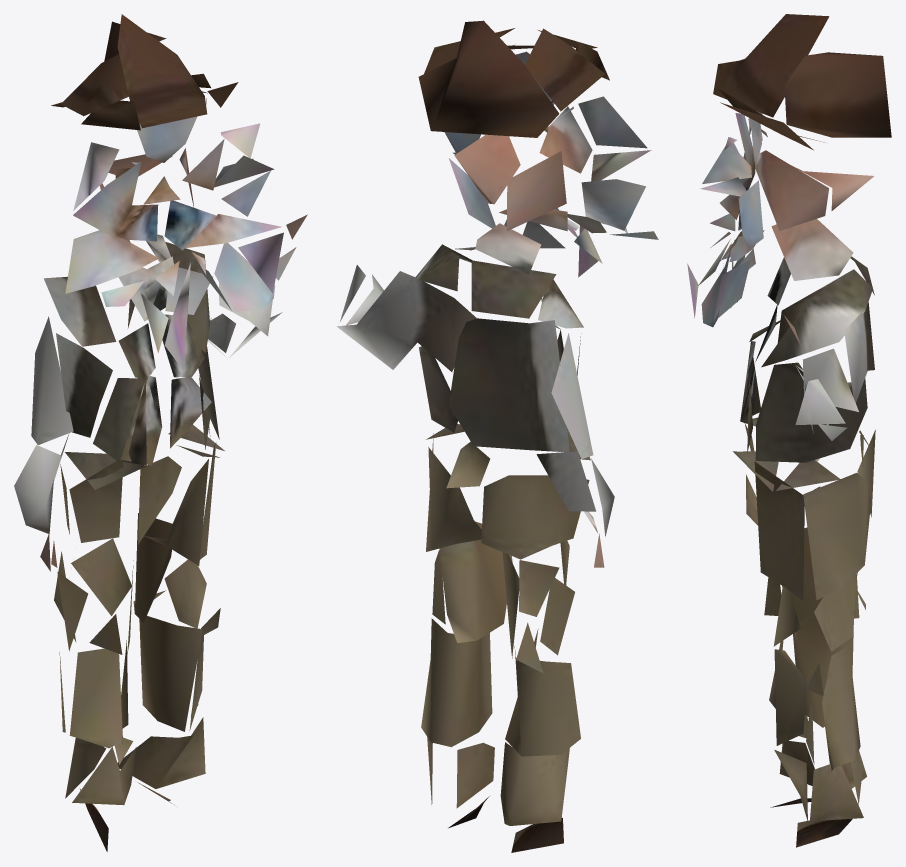
Rendered from crowd_annieh_lite.glb.
3 views of the same model, side by side, from view 1: azimuth 30°, elevation 25°; view 2: azimuth 150°, elevation 25°; view 3: azimuth 270°, elevation 25° (orthographic). The views are drawn at different scales.
Visible parts, largest first — view 1: tripo_node_1126258b-1cb4-43a4-b5b0-aa4036e8409b; view 2: tripo_node_1126258b-1cb4-43a4-b5b0-aa4036e8409b; view 3: tripo_node_1126258b-1cb4-43a4-b5b0-aa4036e8409b.
Part boxes in pixels (x1,y1,x2,y2): tripo_node_1126258b-1cb4-43a4-b5b0-aa4036e8409b: (14, 14, 307, 851); tripo_node_1126258b-1cb4-43a4-b5b0-aa4036e8409b: (336, 20, 658, 852); tripo_node_1126258b-1cb4-43a4-b5b0-aa4036e8409b: (687, 14, 891, 847).
Bounding box in the file's own units: 0.6555 × 1.88 × 0.4272.
1 material, 1 textured.
